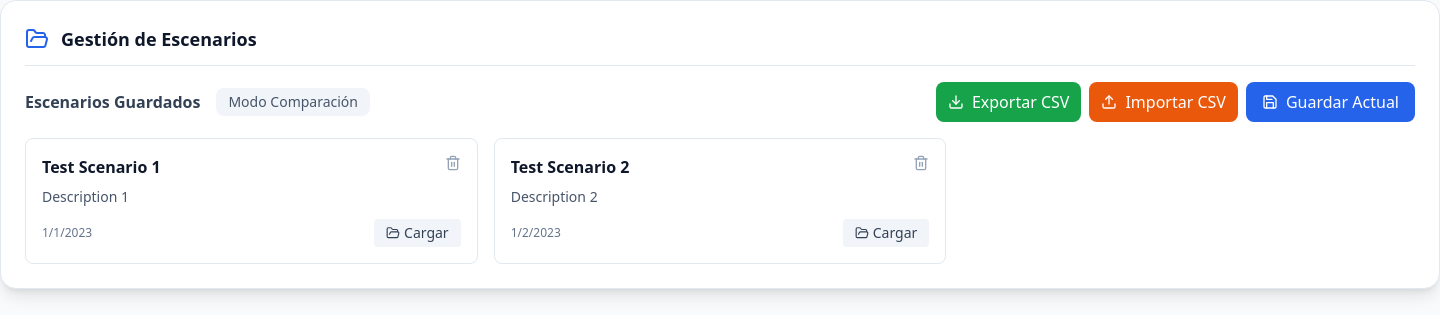
Test: ScenarioManager › should toggle comparison mode when button clicked
This screenshot has width=1440, height=315.
Click the button "Modo Comparación" at (293, 102), box [216, 88, 370, 116]
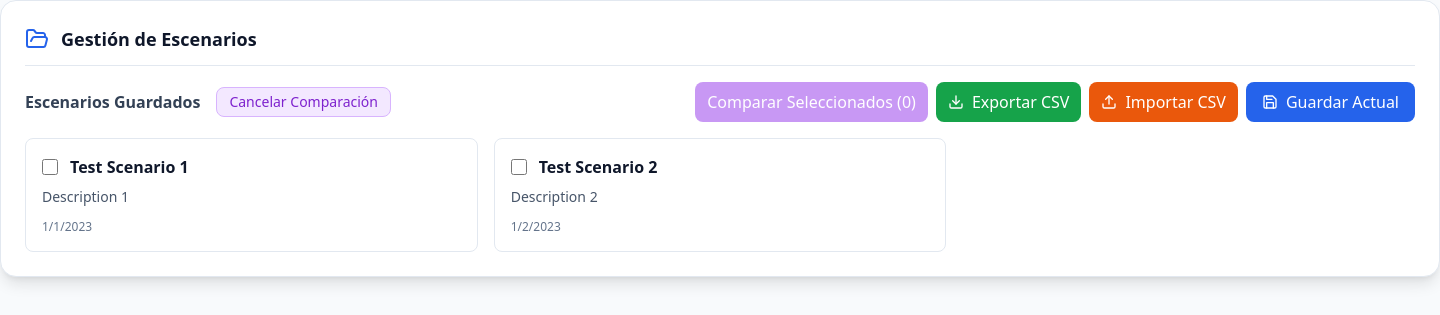
Expected: the button "Cancelar Comparación" is shown, [216, 87, 391, 117]
Expected: the number of checkboxes is 2, [42, 159, 58, 175]; [511, 159, 527, 175]
